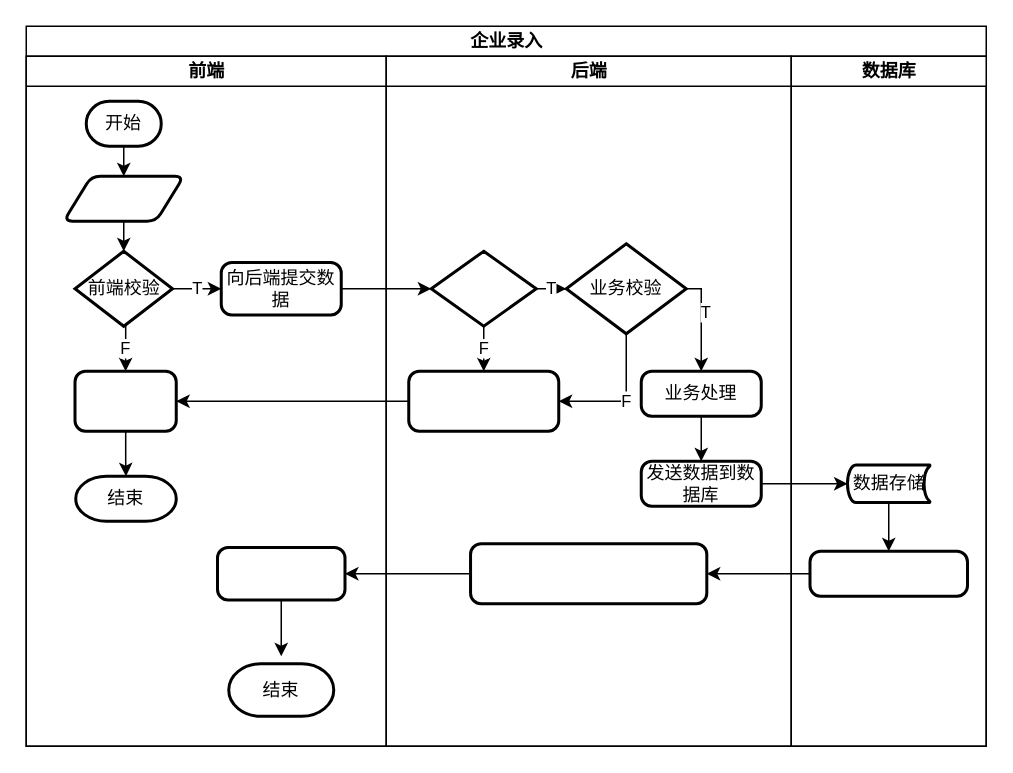
Some shapes in this 1013 by 773 pixel diagram are drawn without their labels. The shapes that lost their labels are listed below. From the top down, each one's centre as x and y in pixels, then its label:
At (x=123, y=198): "用户输入".
At (x=483, y=288): "基础校验".
At (x=125, y=400): "出错提示: 提示用户重新输入".
At (x=483, y=400): "抛出错误信息并返回错误信息给前端".
At (x=280, y=573): "接收数据并跳转结果界面".
At (x=588, y=573): "接收返回的唯一ID 并返回给前端一个含有企业唯一 ID 的企业视图对象".
At (x=888, y=573): "返回产生的唯一 Id".
